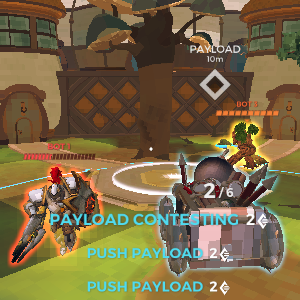model: (14, 162, 95, 261), (216, 120, 265, 173)
